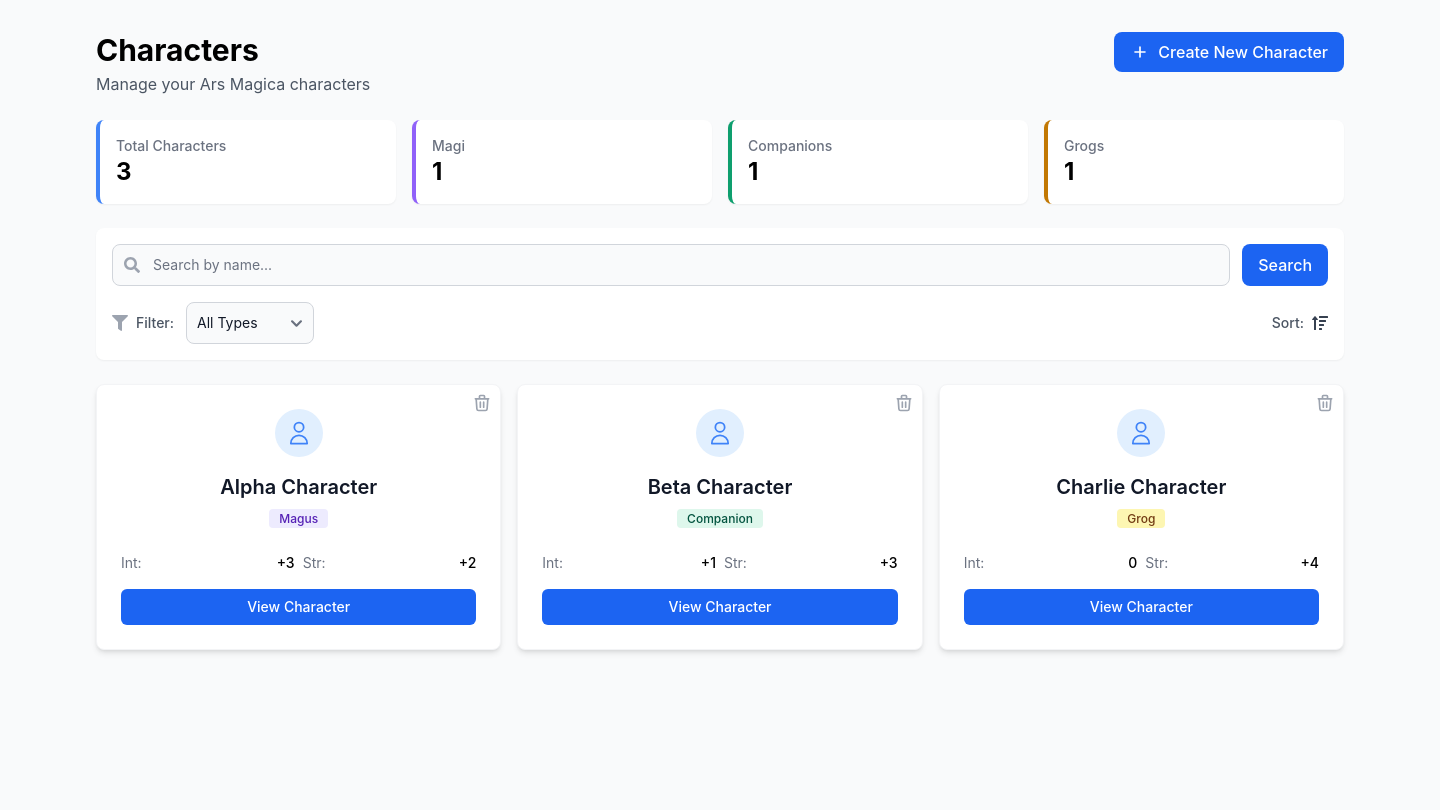
Scenario: CharacterListPage › changes sort order when sort button is clicked
Check: the text "Sort:" is shown, box 1272,313 -> 1304,333
# Characters should be in alphabetical order initially (Alpha, Beta, Charlie)
Click the button titled "Sort Ascending": (1320,323) 1312,315 -> 1328,331
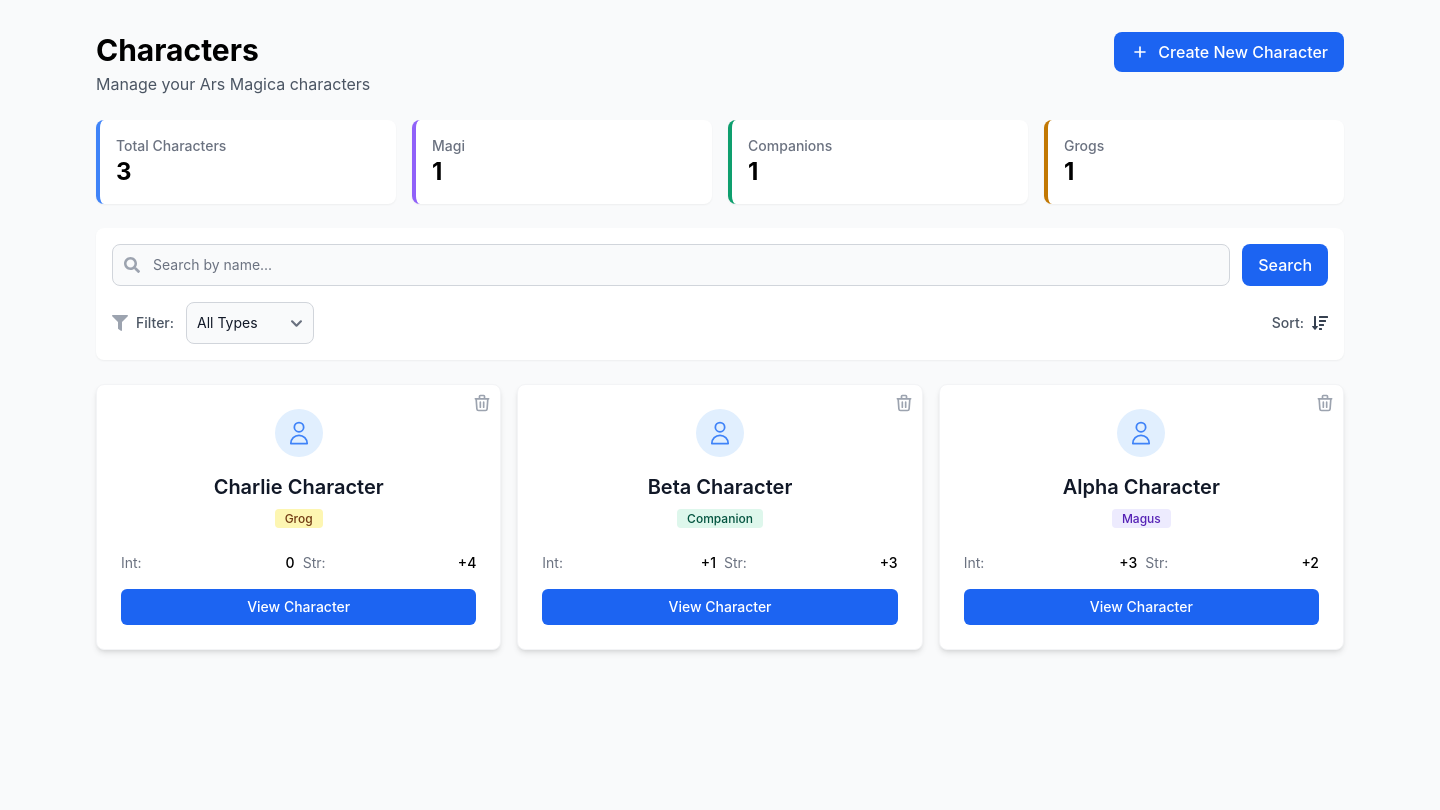
Check: the button titled "Sort Descending" is shown, box 1312,315 -> 1328,331
